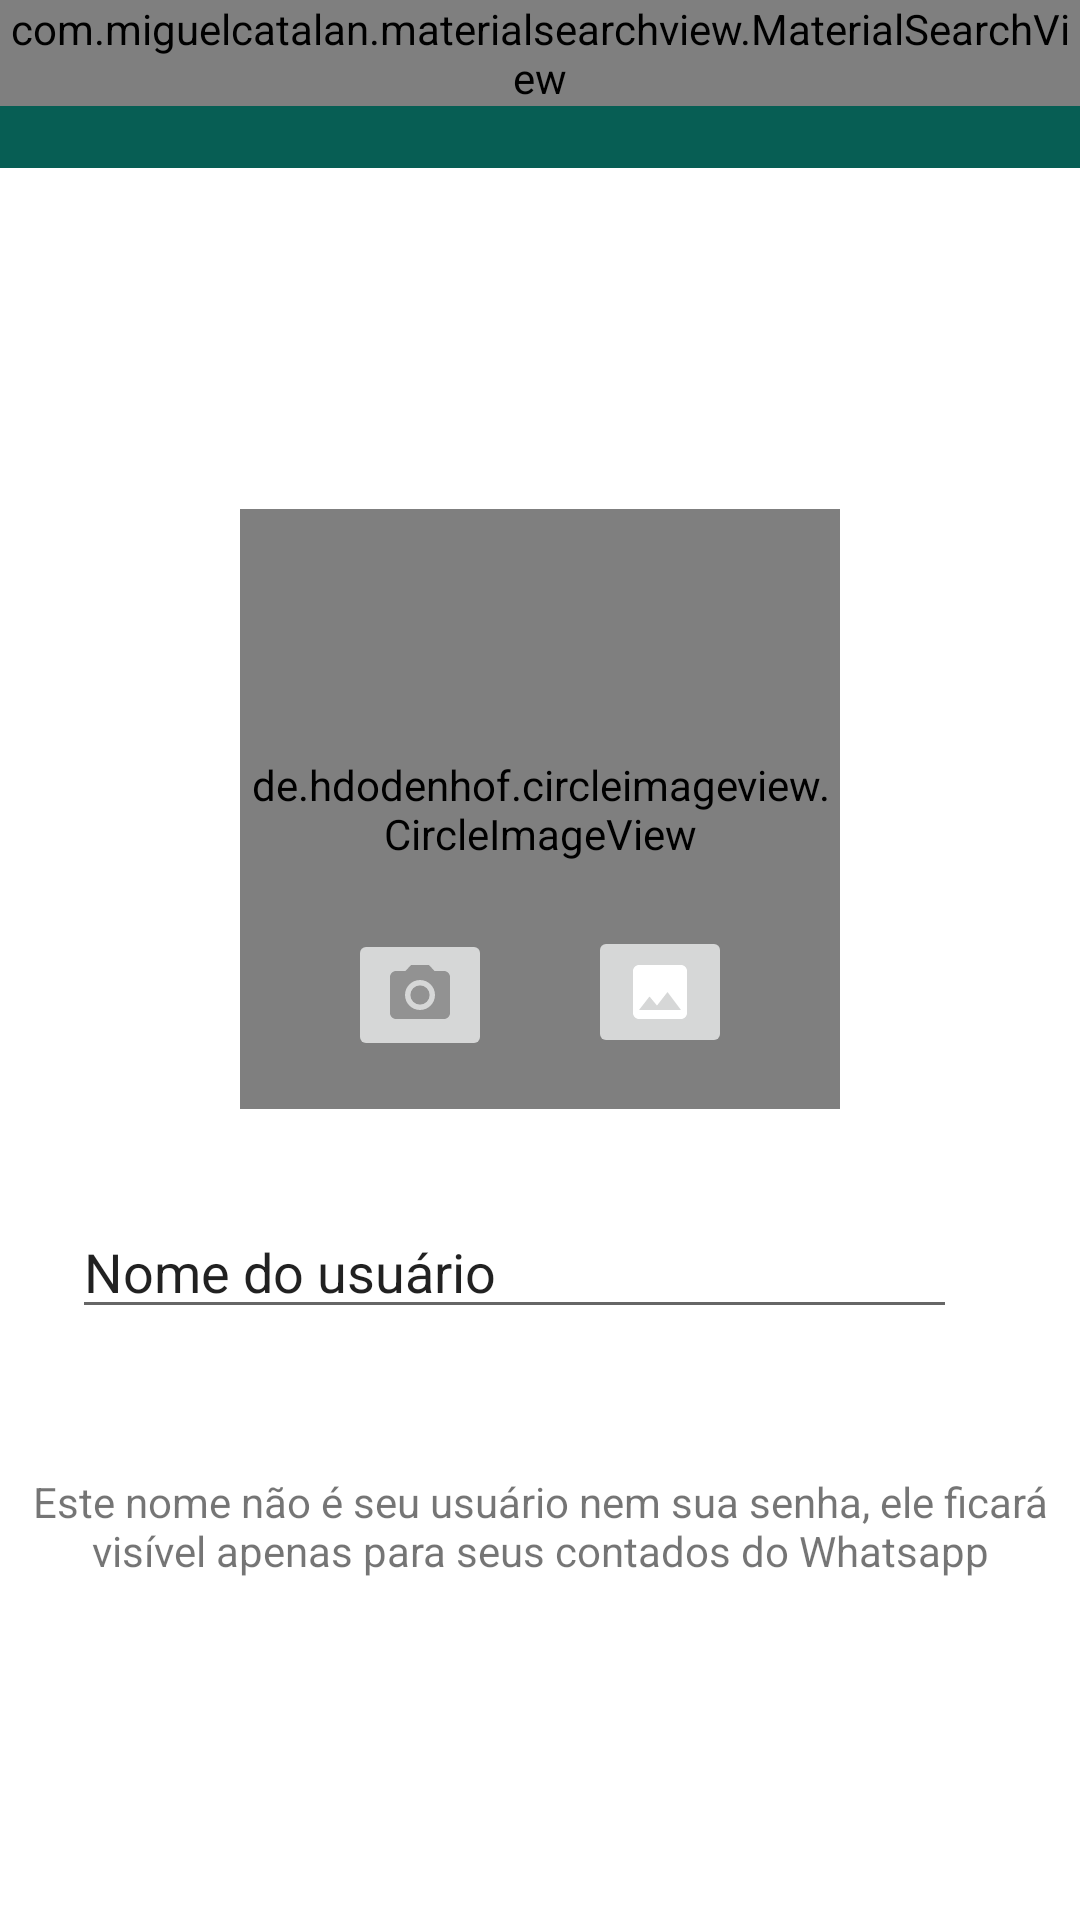

Where to tap for icons on this 1080x1920 app screen, as (x=x, y=y):
camera: (x=420, y=995)
insert photo: (x=660, y=992)
